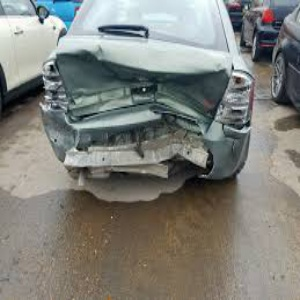bonnet: (58, 37, 225, 82)
bumper: (45, 119, 229, 183)
